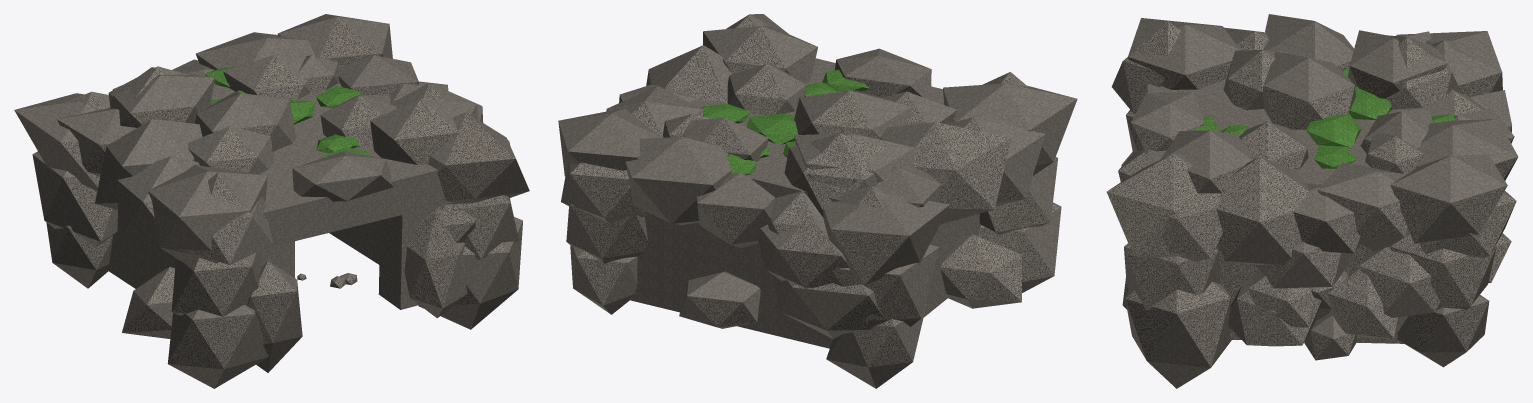
File: cave_stone.glb
The picture shows the model from 3 angles, left to right: view 1: azimuth 30°, elevation 25°; view 2: azimuth 150°, elevation 25°; view 3: azimuth 270°, elevation 25°; orthographic projection. The views are drawn at different scales.
Parts seen in each view (by area): view 1: Body; view 2: Body; view 3: Body.
Part boxes in pixels (x1,y1,x2,y2): Body: (14,14,529,388); Body: (558,14,1077,388); Body: (1106,14,1518,388).
Bounding box in the file's own units: 12.51 × 7.65 × 11.58.
Materials: 3 (2 with a texture image).
